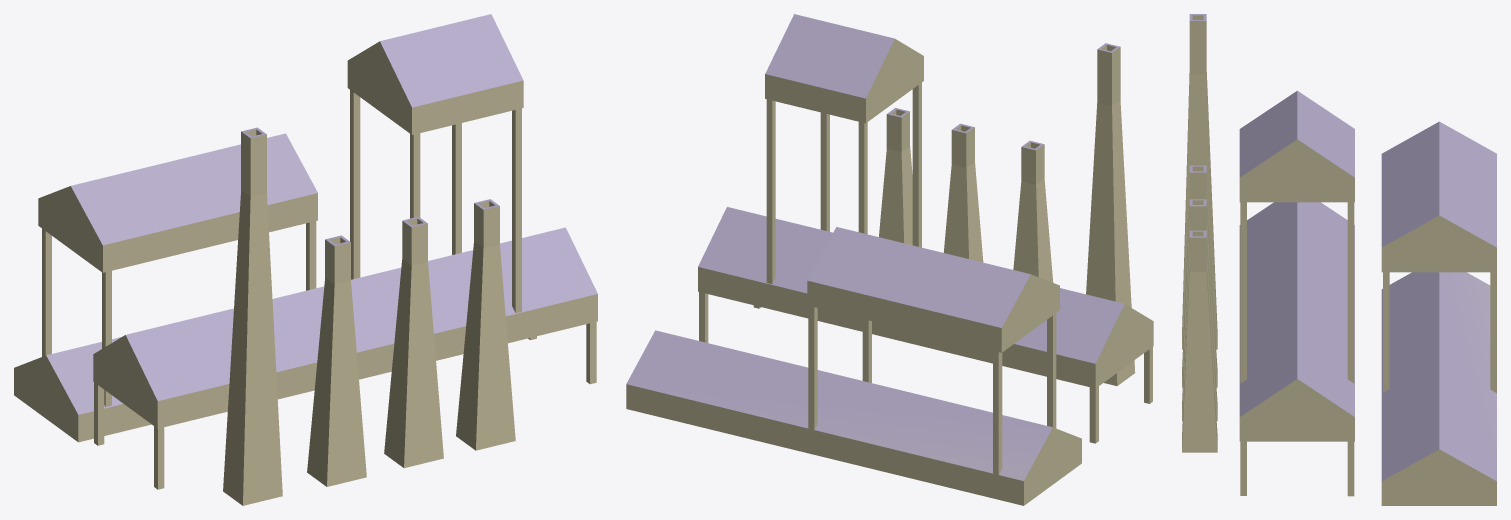
The model's file is intensive_culture.glb.
3 renders of one model, left to right at view 1: azimuth 30°, elevation 25°; view 2: azimuth 150°, elevation 25°; view 3: azimuth 270°, elevation 25°, orthographic. The views are drawn at different scales.
Visible parts, largest first — view 1: Cube.018; view 2: Cube.018; view 3: Cube.018.
Boxes of the visible parts, box(x1,y1,x2,y2) form: Cube.018: box(14, 14, 597, 505); Cube.018: box(626, 14, 1153, 505); Cube.018: box(1182, 14, 1496, 505).
Size of the model in its own units: 2.52 by 2.04 by 1.74.
